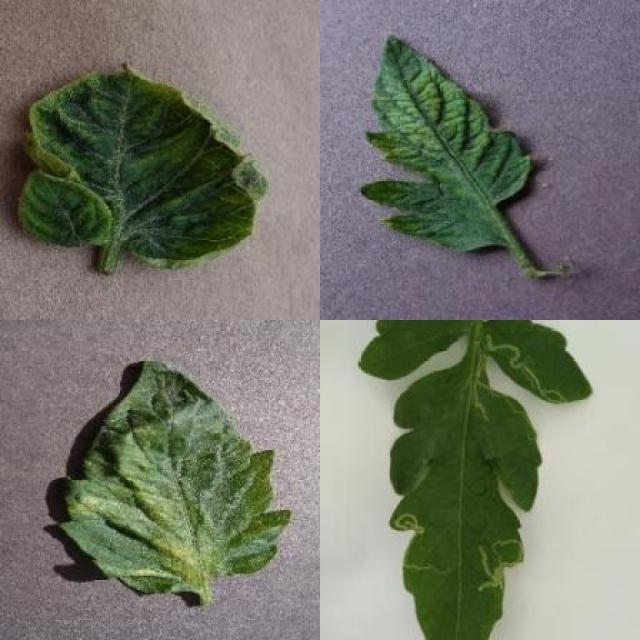Leaf Miner: (386, 365, 543, 640), (486, 320, 596, 406)
Mosaic Virus: (357, 34, 533, 254)
Spider Mites: (61, 358, 290, 595)
Yellow Leaf Curl Virus: (27, 58, 270, 272), (15, 164, 112, 250)
